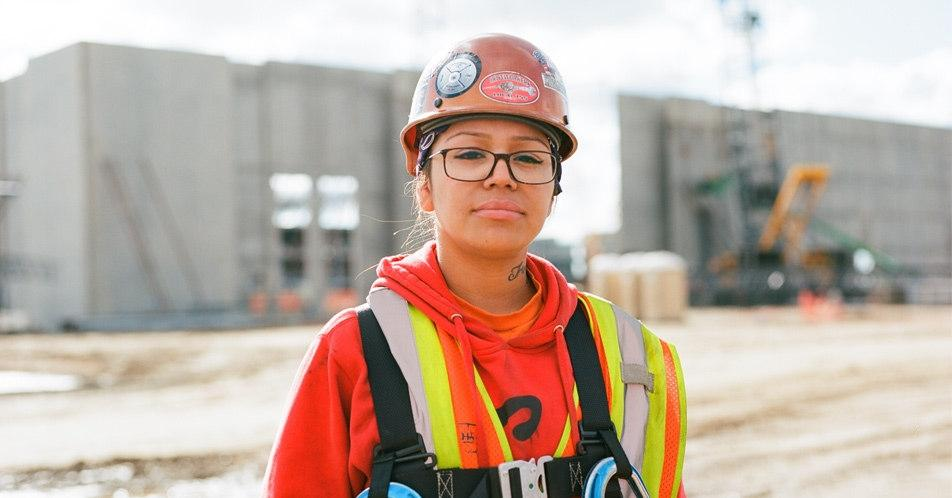helmet: (398, 32, 579, 172)
wear: (301, 300, 687, 498)
